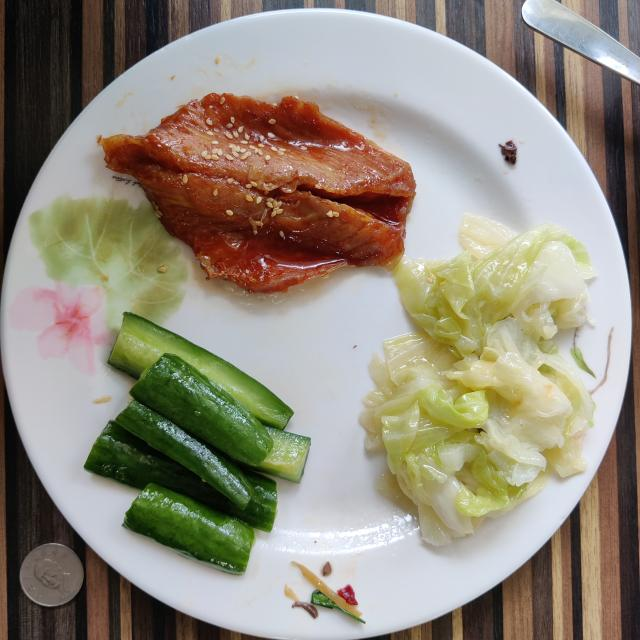Kabayaki sea bream fillet: (100, 94, 415, 292)
cabbage: (360, 215, 595, 545)
coin: (20, 544, 84, 606)
cucumber: (85, 312, 310, 574)
